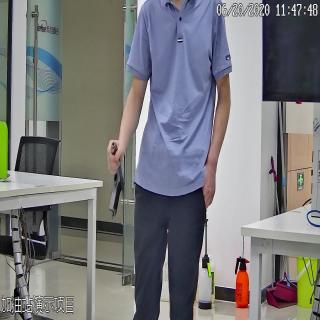gun: (105, 138, 126, 219)
